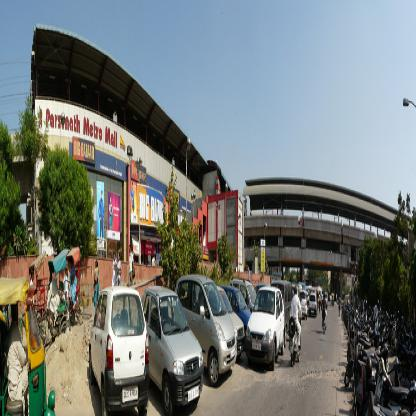Car: (87, 274, 336, 416)
